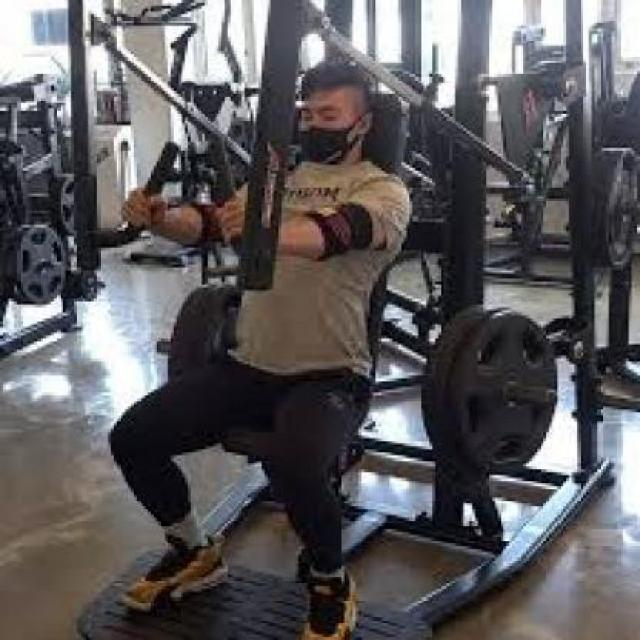Chest Press machine: (77, 0, 609, 640)
